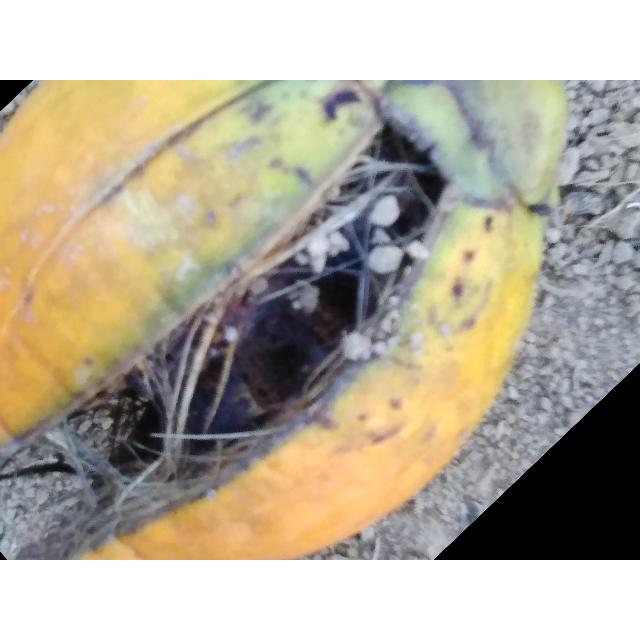damaged: (0, 80, 567, 560)
